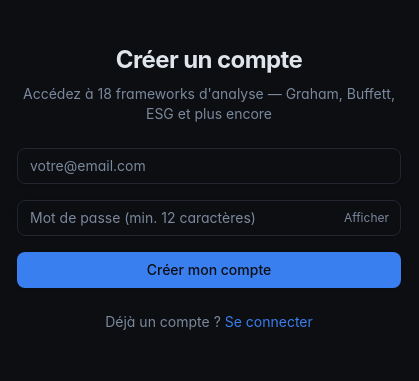
Scenario: RegisterPage › affiche l'indicateur de force du mot de passe
The image size is (419, 381).
Type "abc" into the password field with test id "password-input".
click(209, 218); type("abc")  # box [17,200,401,236]
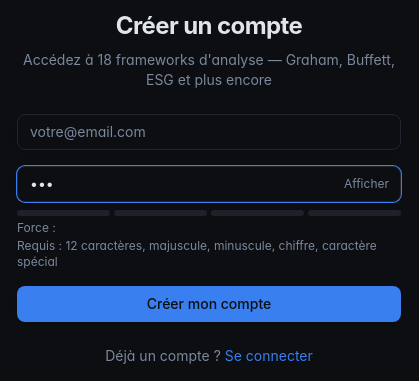
Expected: the element with test id "password-strength" is shown, [17,210,401,270]
